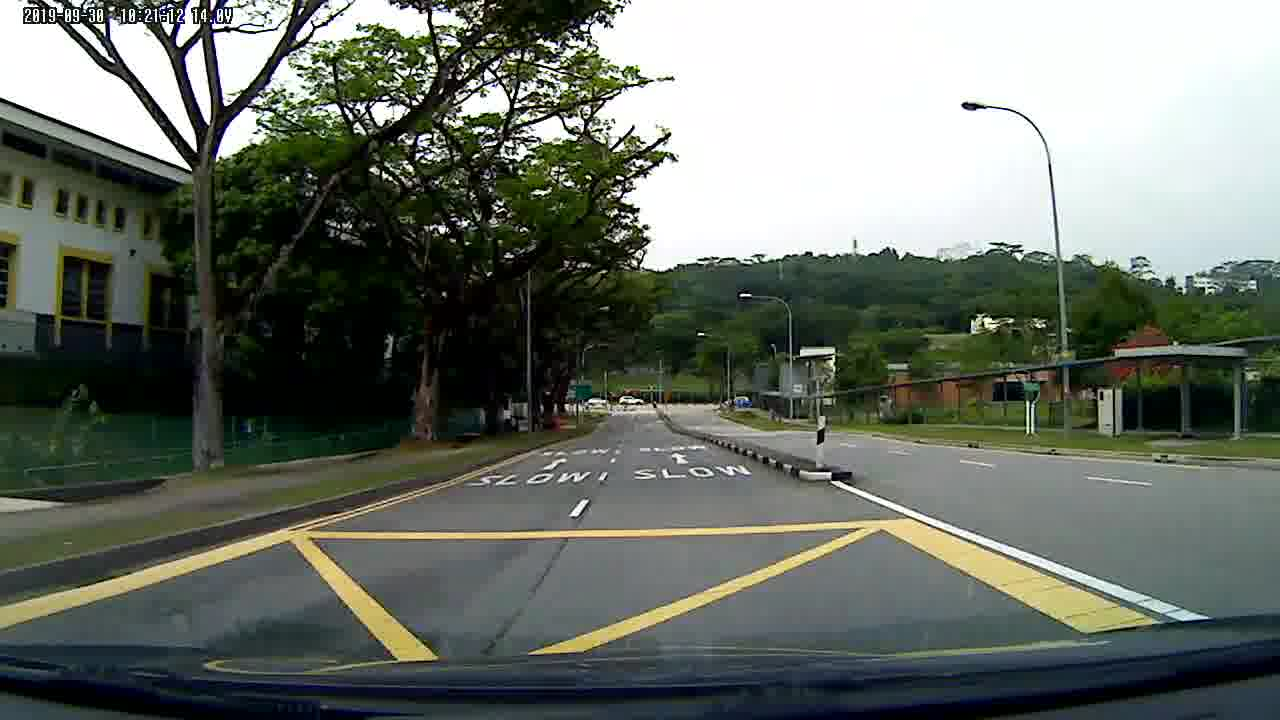car: (620, 394, 643, 408)
